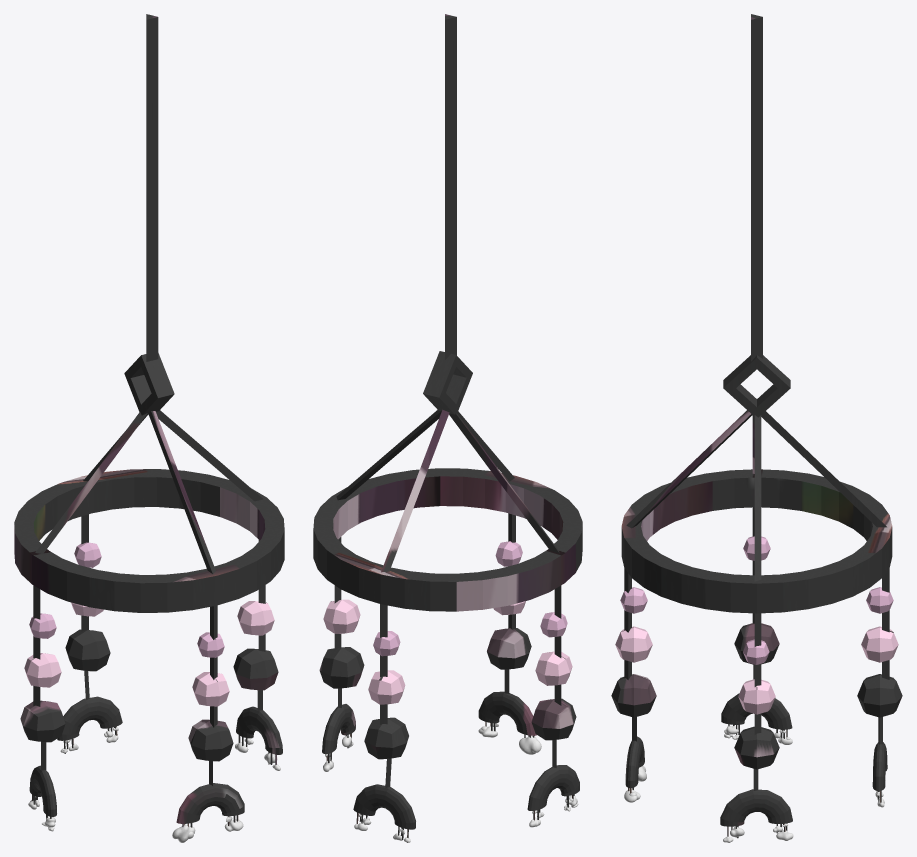
The model's file is TEXTURED-Chandelier_GameClub_Model.glb.
3 renders of one model, left to right at view 1: azimuth 30°, elevation 25°; view 2: azimuth 150°, elevation 25°; view 3: azimuth 270°, elevation 25°, orthographic.
Visible parts, largest first — view 1: Cylinder.004, Cylinder.008, Cylinder.009, Cylinder.006, Cylinder.003, Cylinder.002, Cylinder.005; view 2: Cylinder.004, Cylinder.008, Cylinder.009, Cylinder.007, Cylinder.005, Cylinder.002, Cylinder.003; view 3: Cylinder.004, Cylinder.006, Cylinder.007, Cylinder.008, Cylinder.005.
Part boxes in pixels (x1,y1,x2,y2): Cylinder.004: (14, 14, 284, 827); Cylinder.008: (237, 601, 274, 635); Cylinder.009: (24, 653, 61, 687); Cylinder.006: (192, 672, 229, 706); Cylinder.003: (74, 542, 101, 567); Cylinder.002: (29, 613, 56, 638); Cylinder.005: (197, 632, 224, 657); Cylinder.004: (313, 14, 582, 842); Cylinder.008: (323, 599, 360, 633); Cylinder.009: (535, 651, 572, 685); Cylinder.007: (368, 670, 405, 704); Cylinder.005: (495, 541, 522, 566); Cylinder.002: (540, 612, 567, 637); Cylinder.003: (373, 631, 400, 656); Cylinder.004: (611, 14, 902, 838); Cylinder.006: (615, 626, 652, 662); Cylinder.007: (861, 626, 898, 662); Cylinder.008: (738, 679, 775, 714); Cylinder.005: (620, 587, 647, 613).
Size of the model in its own units: 0.6455 by 1.9 by 0.6455.
Materials: 3 (3 with a texture image).
